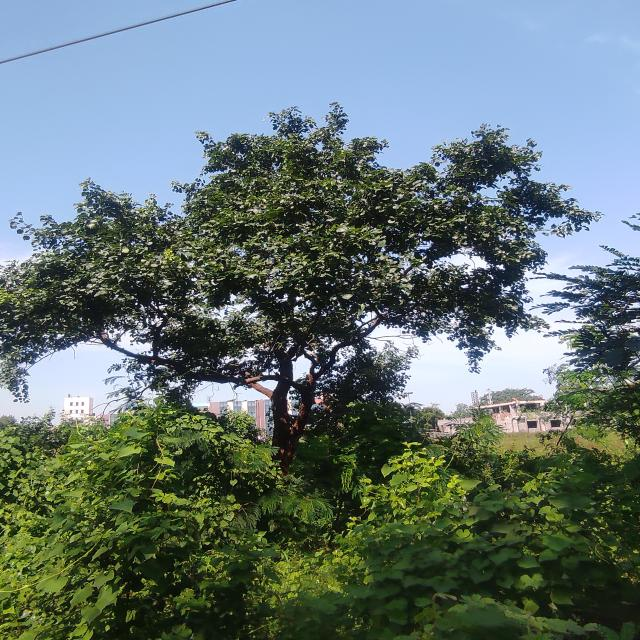Devakanchan tree: (1, 103, 532, 370)
